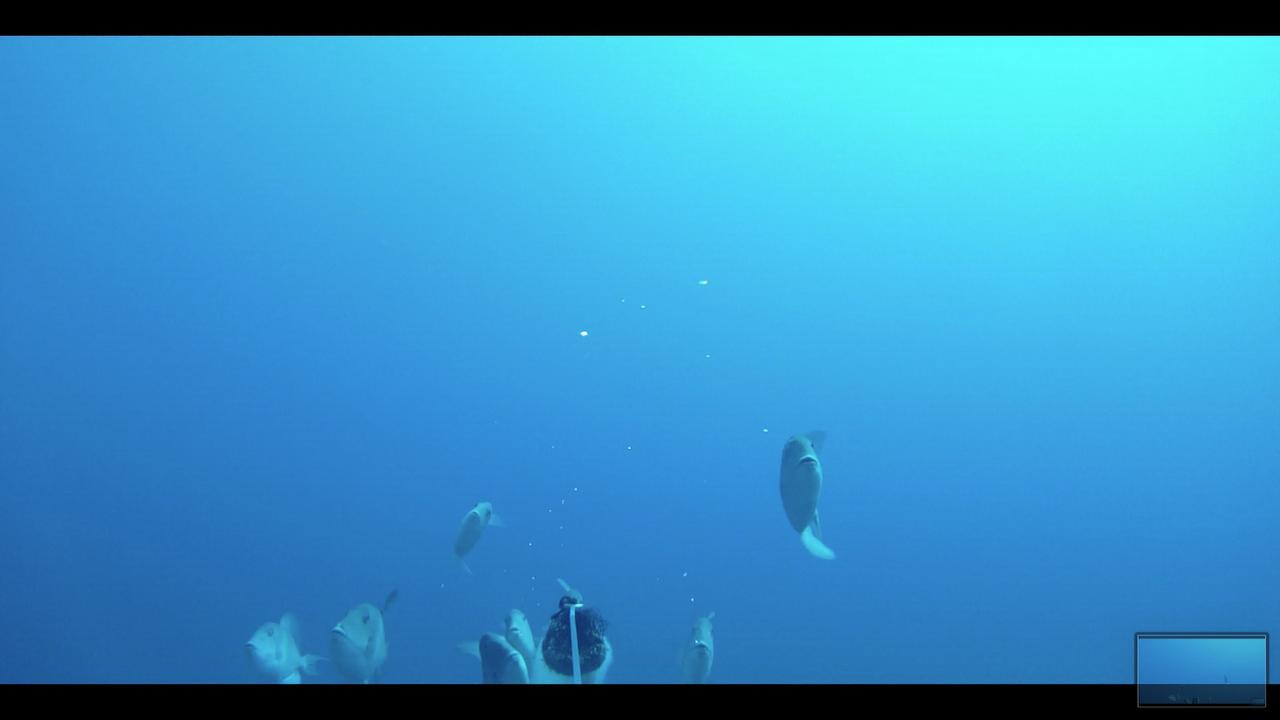balistes: (779, 420, 837, 562), (329, 580, 397, 680), (243, 610, 325, 682), (451, 628, 529, 682), (451, 496, 504, 569), (675, 608, 715, 680), (498, 601, 540, 664)
